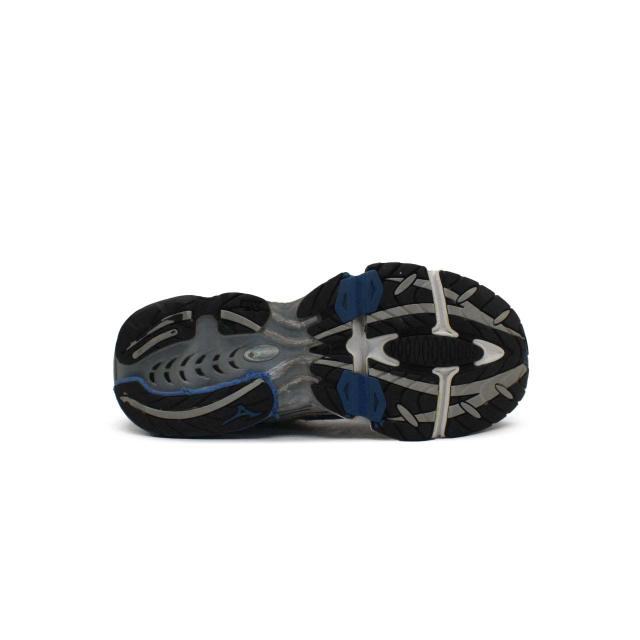outersole: (111, 262, 530, 442)
